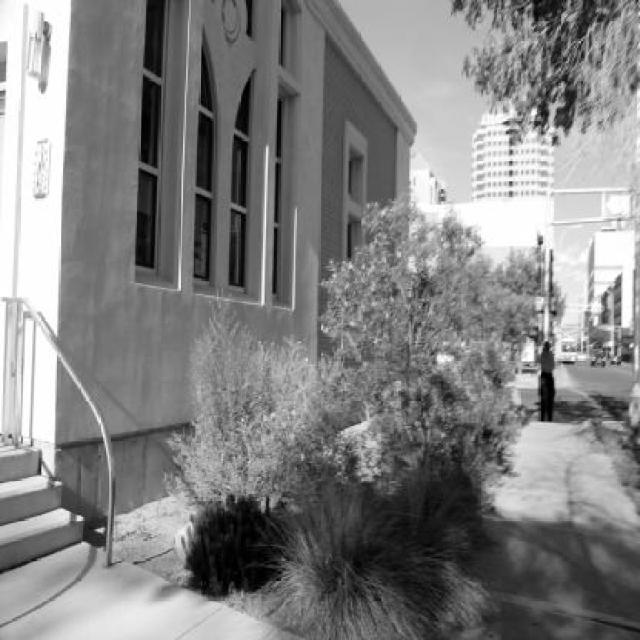stair: (0, 438, 86, 572)
